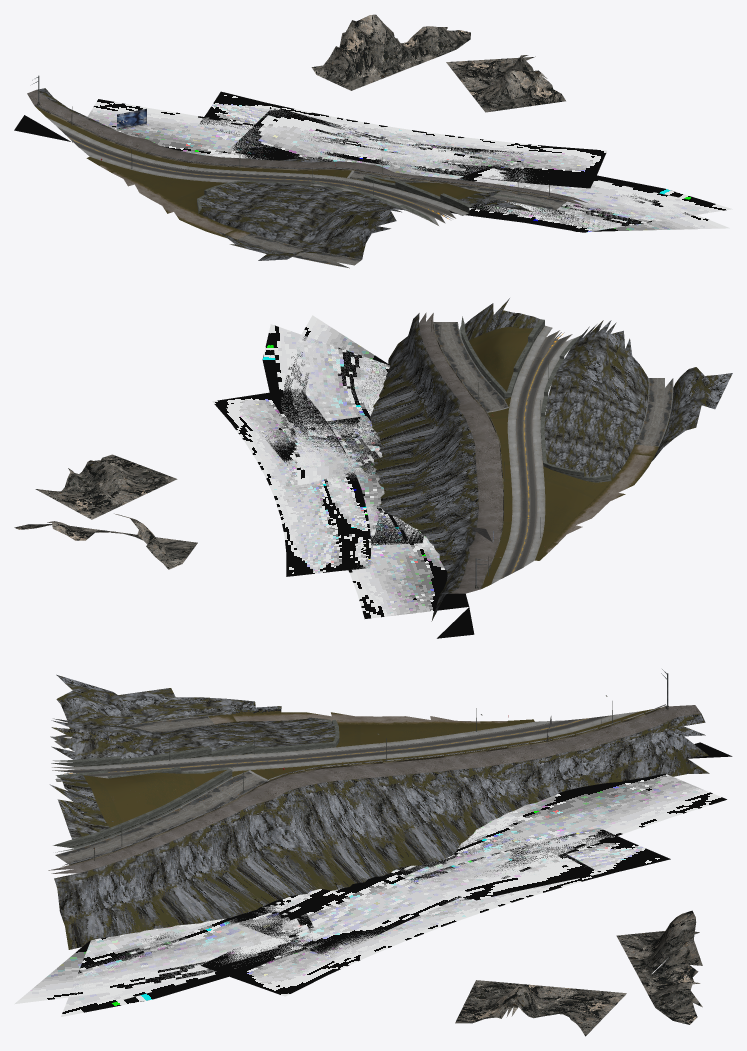
The model's file is world_camden_16_-11.gltf.
The picture shows the model from 3 angles, top to bottom: view 1: azimuth 30°, elevation 25°; view 2: azimuth 150°, elevation 25°; view 3: azimuth 270°, elevation 25°; orthographic projection. The views are drawn at different scales.
Bounding box in the file's own units: 273 × 49.97 × 291.
35 materials, 35 textured.
